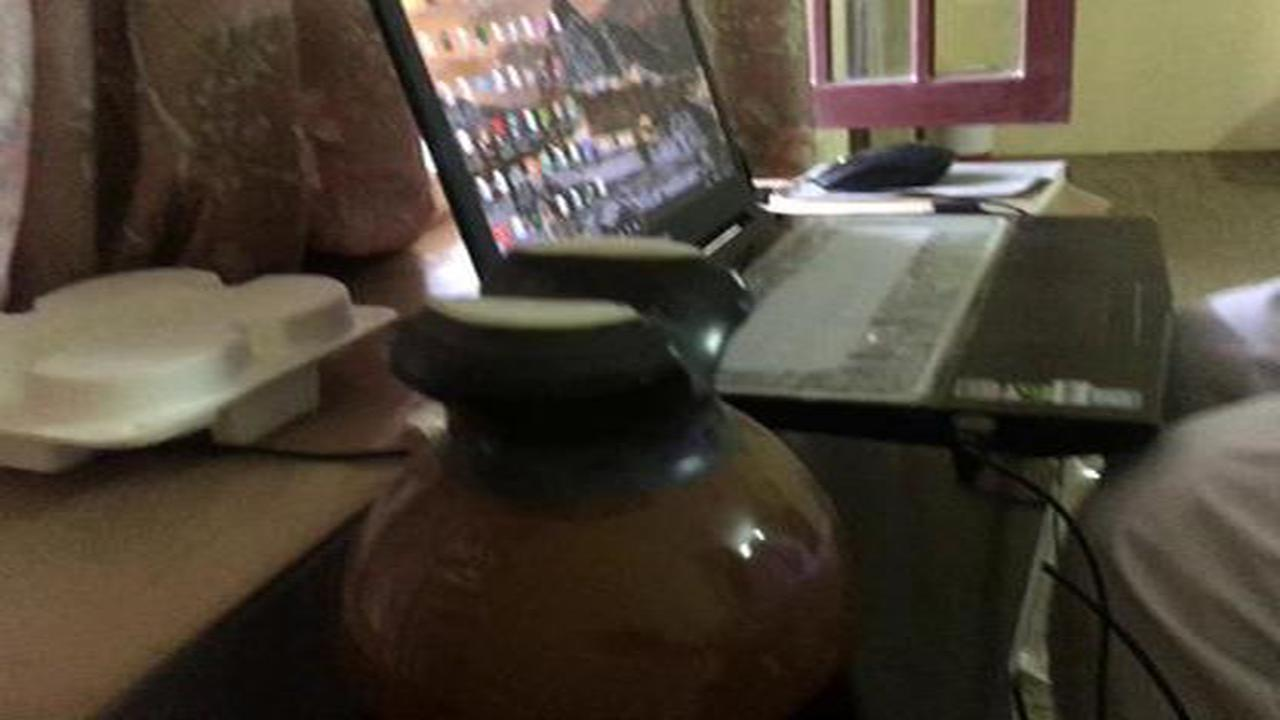insulator_pin: (327, 222, 881, 717)
